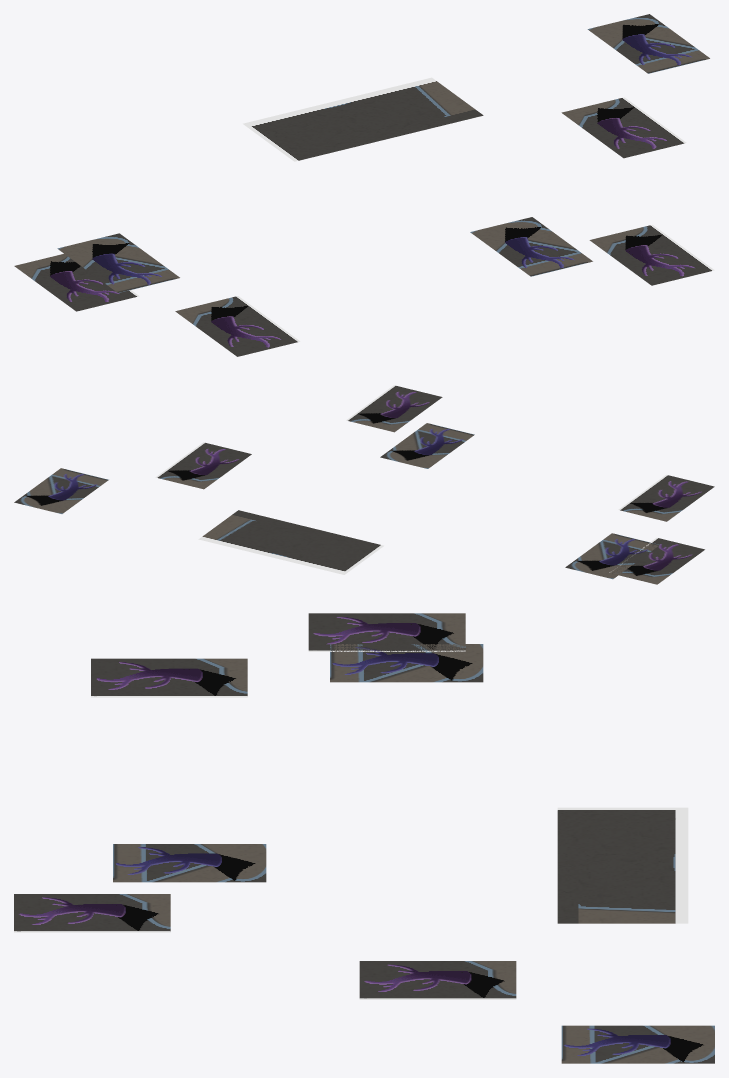
File: world06_background_details.obj
3 views of the same model, one above another, from view 1: azimuth 30°, elevation 25°; view 2: azimuth 150°, elevation 25°; view 3: azimuth 270°, elevation 25° (orthographic). The views are drawn at different scales.
Parts seen in each view (by area): view 1: world06_background_details; view 2: world06_background_details; view 3: world06_background_details.
Part boxes in pixels (x1=…): world06_background_details: x1=14, y1=14, x2=714, y2=356; world06_background_details: x1=14, y1=385, x2=714, y2=584; world06_background_details: x1=14, y1=613, x2=714, y2=1063.
Size of the model in its own units: 420 by 0 by 276.
